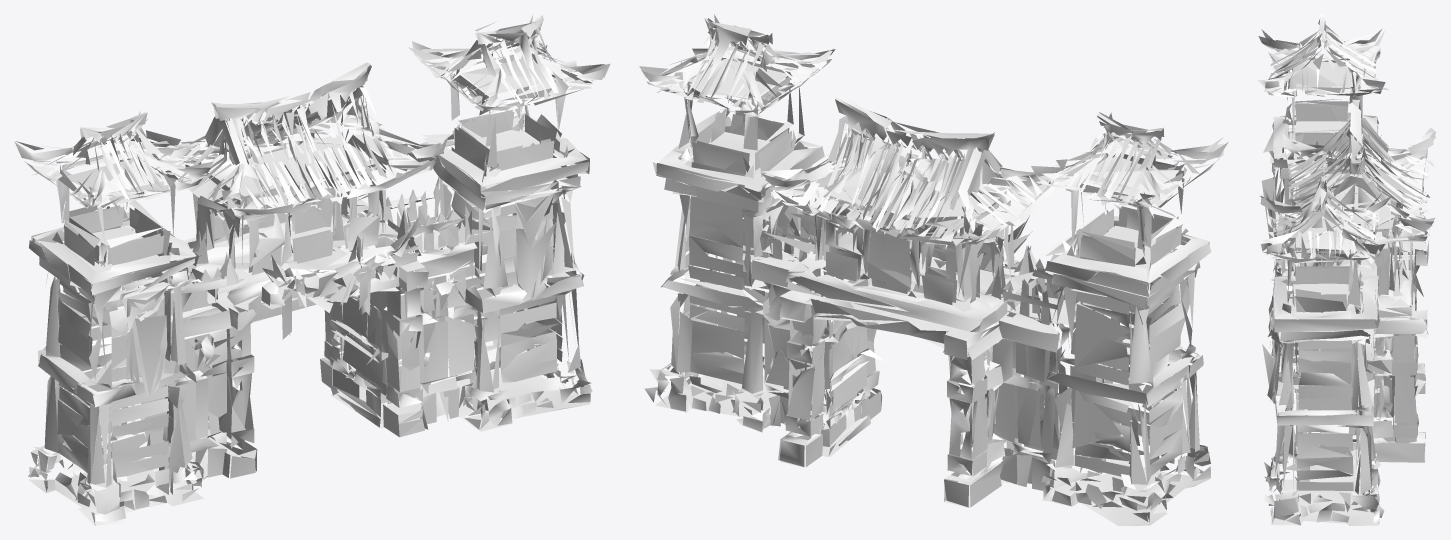
Rendered from gate_fang_lod2.glb.
3 renders of one model, left to right at view 1: azimuth 30°, elevation 25°; view 2: azimuth 150°, elevation 25°; view 3: azimuth 270°, elevation 25°, orthographic. The views are drawn at different scales.
Parts seen in each view (by area): view 1: gate_fang; view 2: gate_fang; view 3: gate_fang.
Boxes of the visible parts, box(x1,y1,x2,y2) form: gate_fang: box(14, 14, 610, 525); gate_fang: box(639, 14, 1228, 525); gate_fang: box(1257, 14, 1436, 525).
Size of the model in its own units: 20.79 by 14.48 by 7.25.
Materials: 1 (1 with a texture image).
